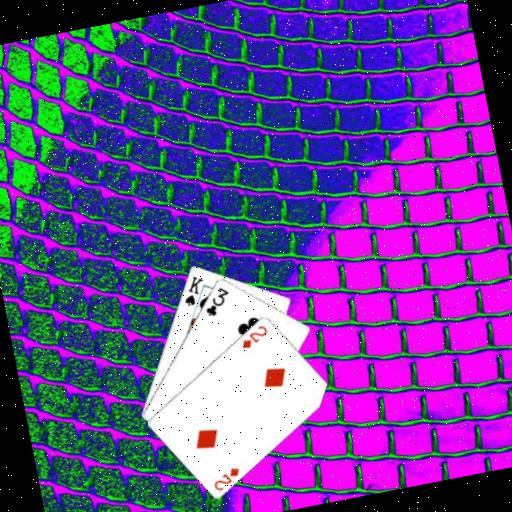2D: (208, 463, 244, 494), (236, 321, 272, 351)
3C: (199, 283, 234, 320)
KS: (177, 271, 209, 309)
